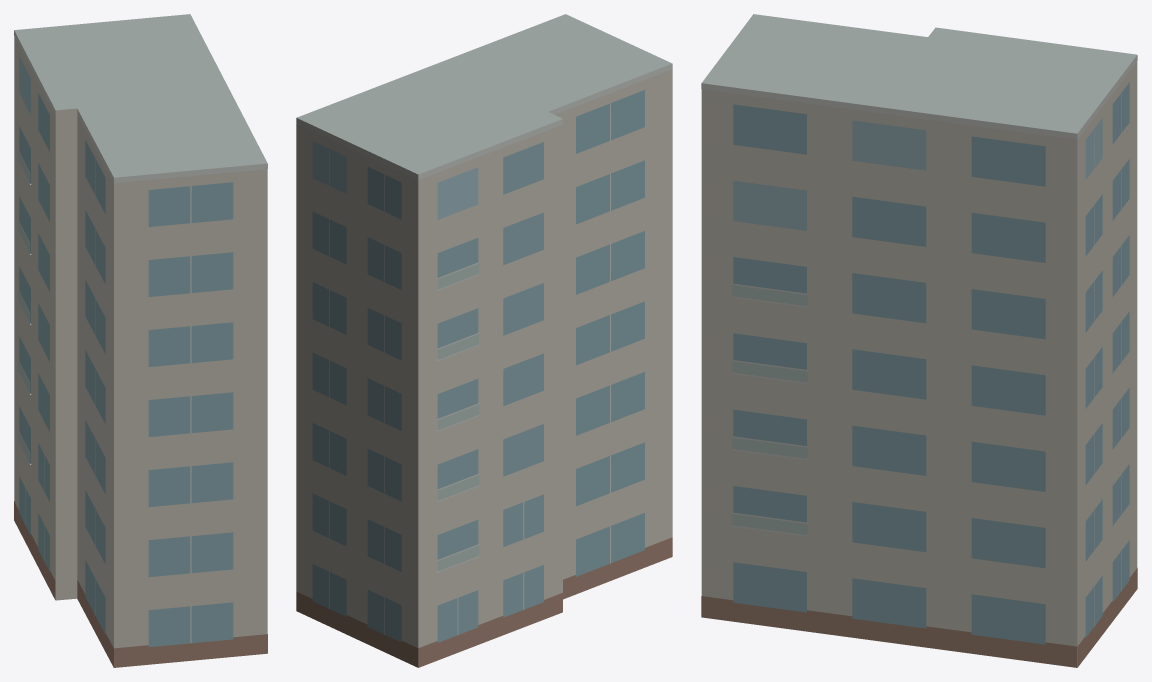
Rendered from survey-upis-32934282.glb.
3 renders of one model, left to right at view 1: azimuth 30°, elevation 25°; view 2: azimuth 150°, elevation 25°; view 3: azimuth 270°, elevation 25°, orthographic. The views are drawn at different scales.
Parts seen in each view (by area): view 1: survey-upis-32934282.tmp; view 2: survey-upis-32934282.tmp; view 3: survey-upis-32934282.tmp.
Boxes of the visible parts, x1,y1,x2,y2 form: survey-upis-32934282.tmp: (14,14,267,667); survey-upis-32934282.tmp: (296,14,672,667); survey-upis-32934282.tmp: (701,14,1137,667).
Bounding box in the file's own units: 10.34 × 21.5 × 15.91.
